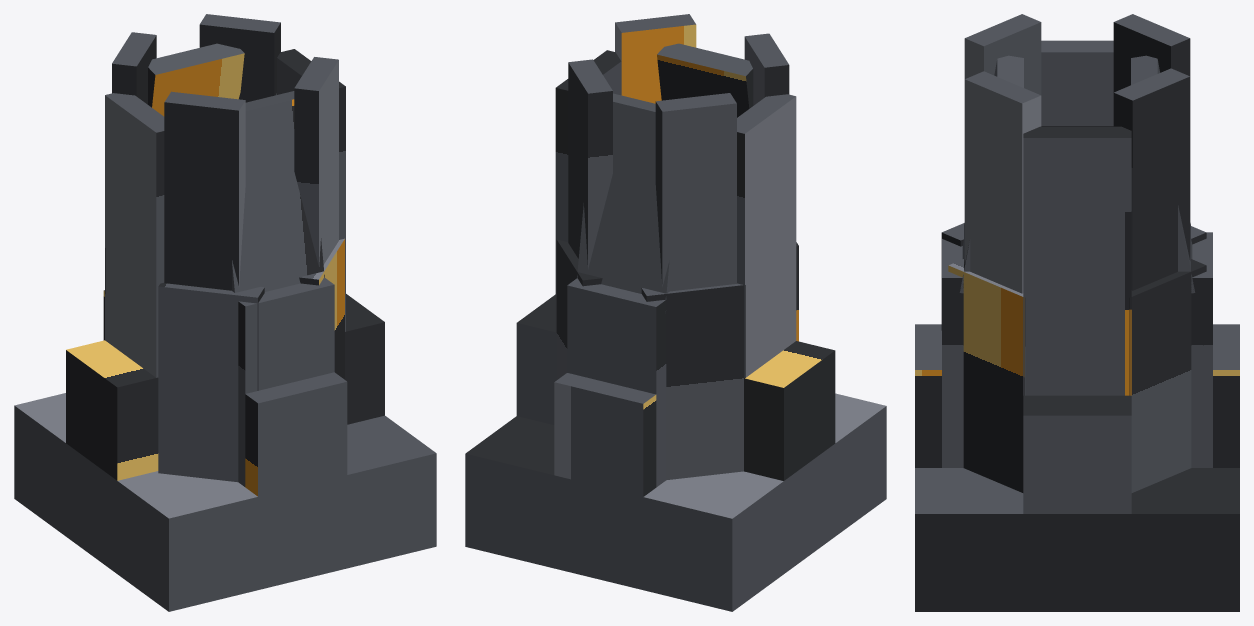
The model's file is electric_blast_furnace_south.obj.
The picture shows the model from 3 angles, left to right: view 1: azimuth 30°, elevation 25°; view 2: azimuth 150°, elevation 25°; view 3: azimuth 270°, elevation 25°; orthographic projection. The views are drawn at different scales.
Visible parts, largest first — view 1: mesh; view 2: mesh; view 3: mesh.
Part boxes in pixels (x1,y1,x2,y2): mesh: (14, 14, 436, 611); mesh: (465, 14, 886, 611); mesh: (915, 14, 1239, 611).
Size of the model in its own units: 3 by 4.94 by 3.
